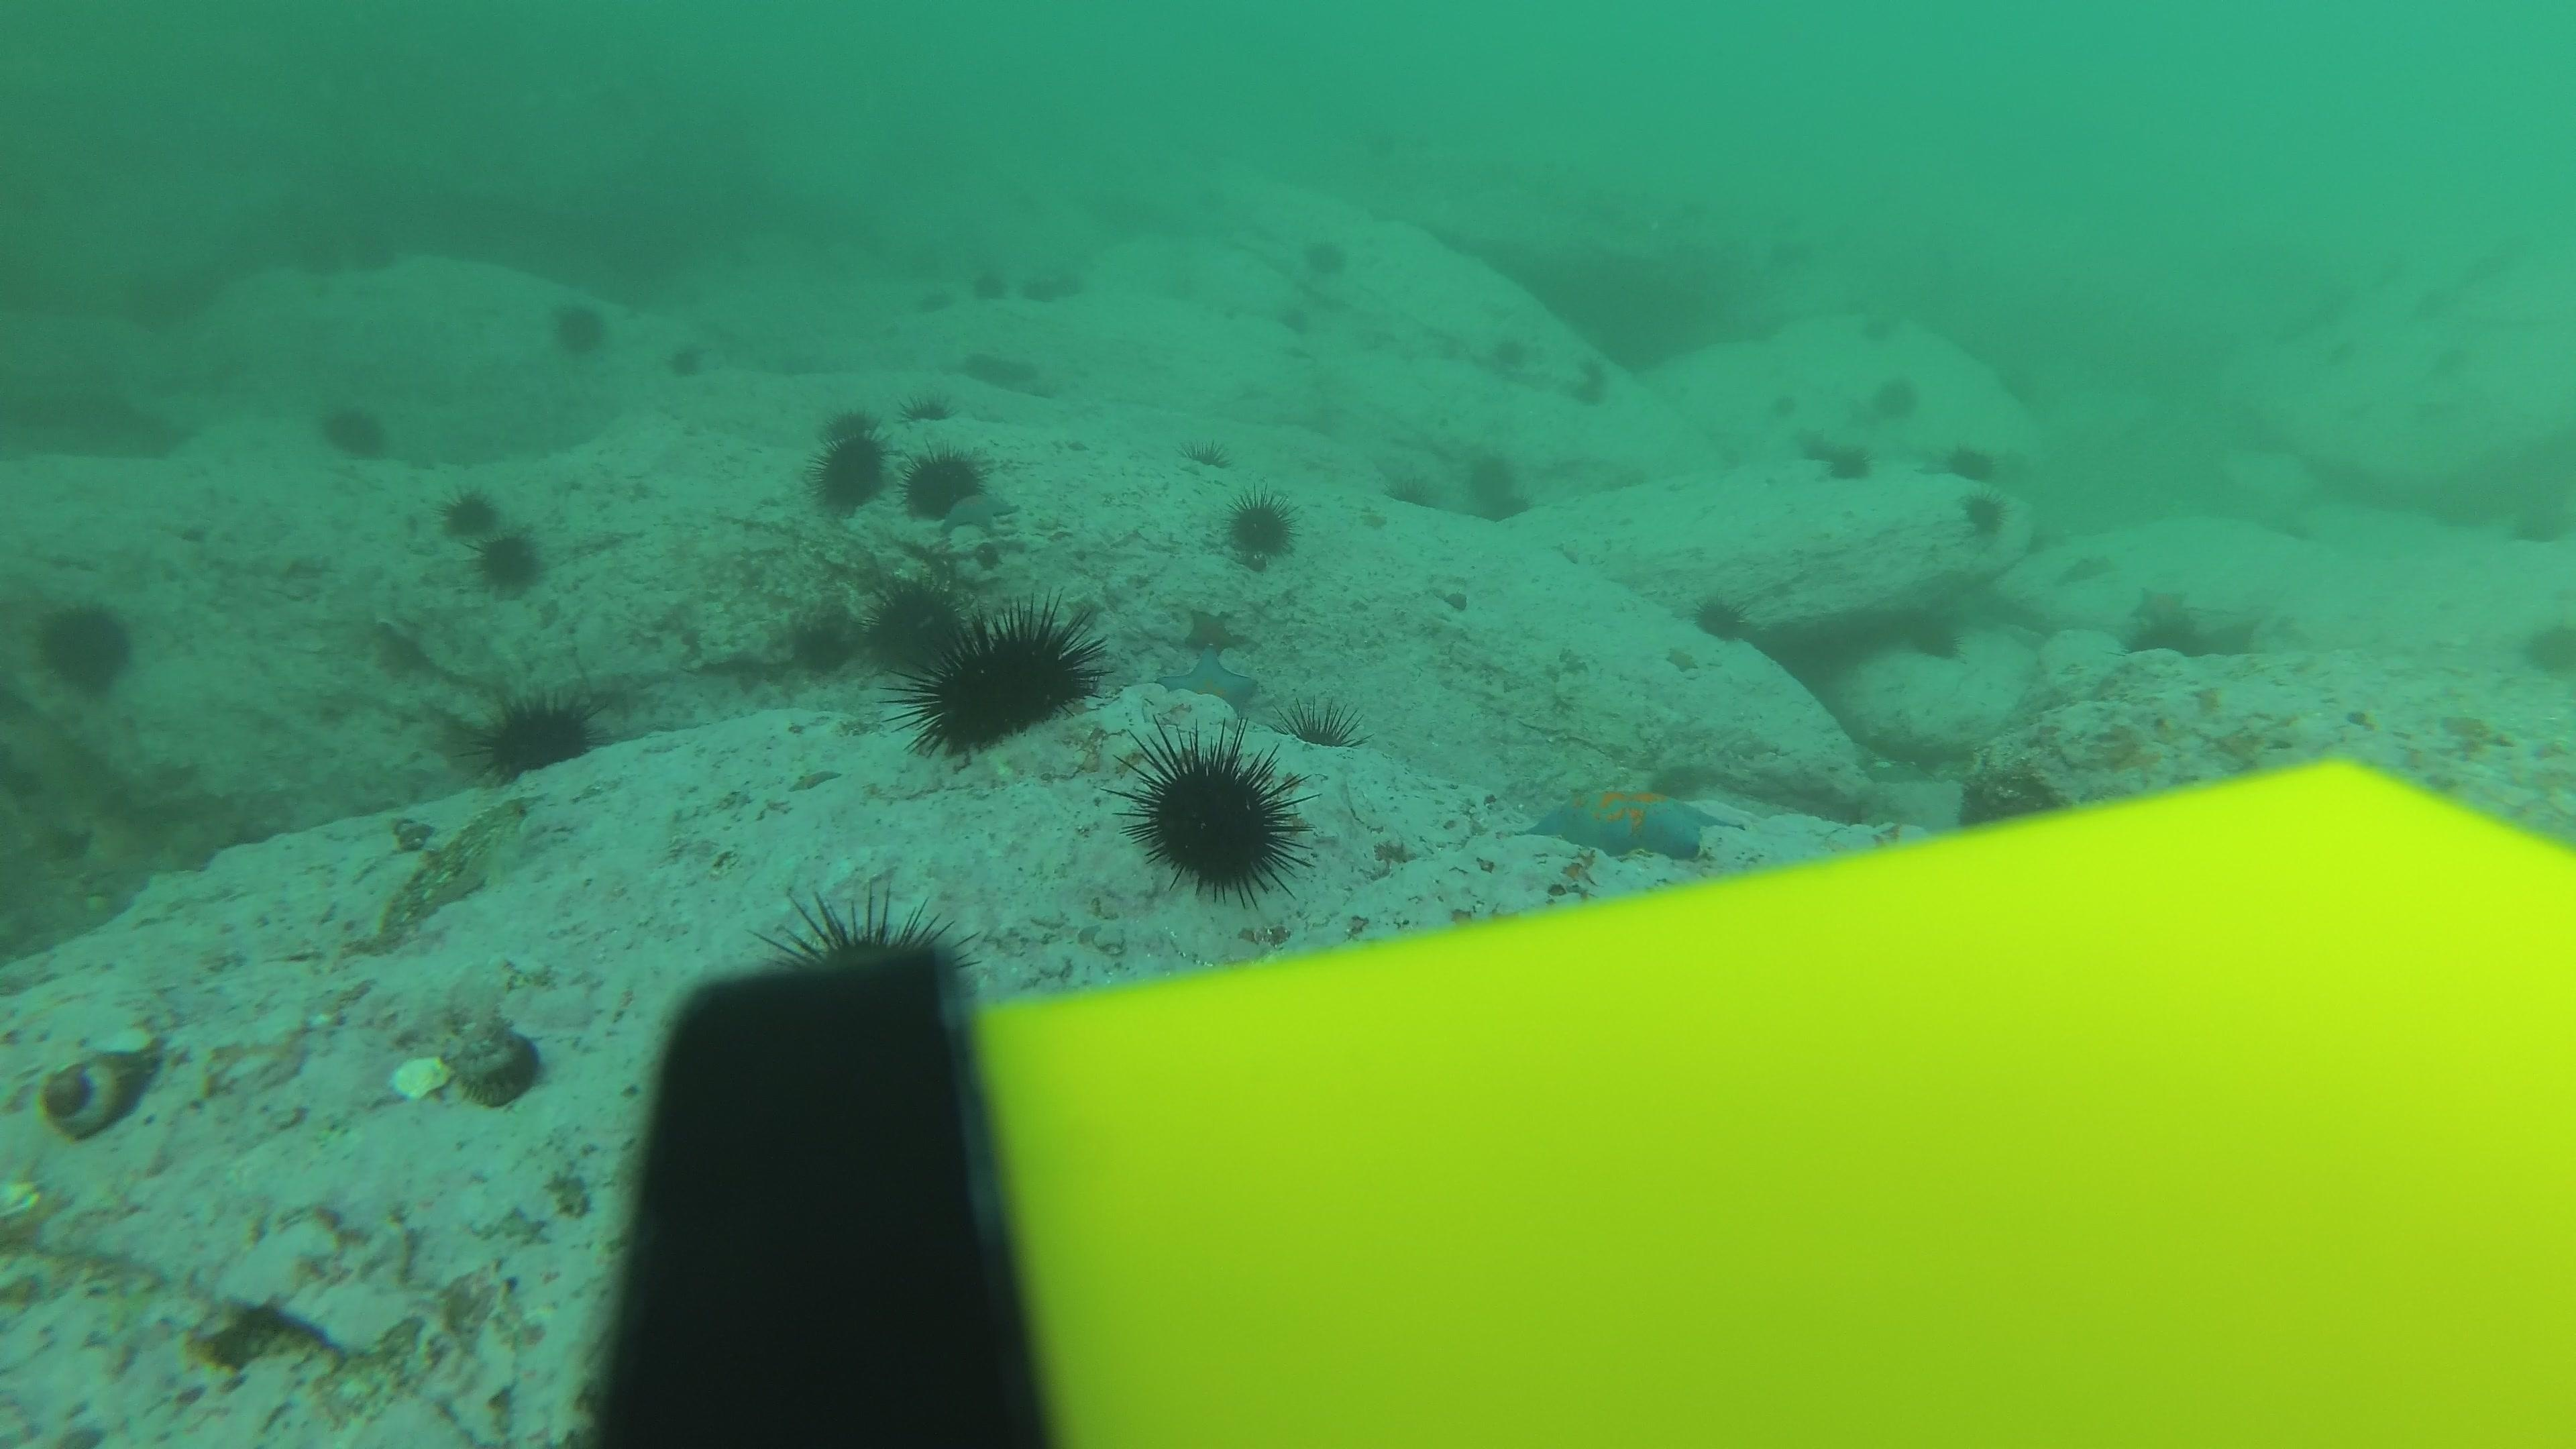echinus: (759, 883, 975, 1060), (1123, 727, 1309, 902), (899, 600, 1104, 757), (472, 688, 600, 784), (32, 594, 138, 699), (867, 579, 962, 672), (901, 441, 987, 520), (810, 430, 888, 515), (1219, 488, 1300, 566), (441, 485, 517, 563), (471, 527, 543, 602), (317, 395, 391, 464), (547, 294, 614, 361), (2121, 619, 2201, 663), (1690, 589, 1748, 644), (1913, 621, 1969, 674), (1955, 488, 2010, 541), (1463, 451, 1522, 497), (1380, 474, 1438, 520), (1852, 306, 1905, 350), (1944, 446, 1997, 488), (1822, 444, 1875, 487), (1874, 375, 1927, 418), (897, 391, 952, 426), (823, 405, 878, 441), (1476, 494, 1534, 525), (1180, 433, 1235, 467), (1304, 235, 1350, 272), (1486, 334, 1532, 372), (1016, 278, 1058, 308), (1277, 306, 1322, 334), (1049, 271, 1090, 301), (964, 272, 1005, 303), (913, 287, 954, 317), (671, 347, 711, 377), (356, 241, 396, 271), (303, 244, 343, 274), (1576, 356, 1608, 382), (1767, 391, 1801, 416), (1573, 384, 1605, 409)
starfish: (1522, 778, 1746, 867), (74, 810, 165, 899), (904, 442, 996, 524), (1155, 644, 1260, 711), (941, 487, 1019, 534), (1178, 603, 1238, 656), (2125, 580, 2187, 628), (2059, 556, 2114, 593), (1665, 644, 1702, 678), (1792, 421, 1829, 455)
